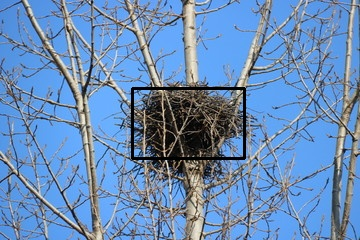bird-nest: (132, 80, 249, 177)
